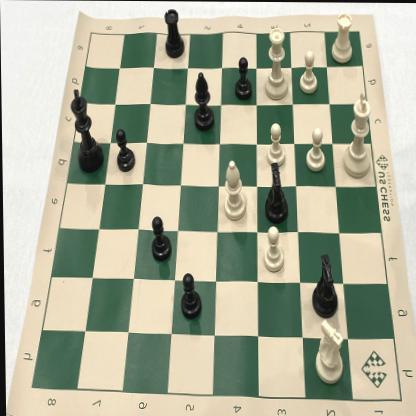black-bishop: (187, 66, 218, 136)
black-king: (67, 81, 106, 178)
black-knight: (307, 248, 341, 320), (259, 159, 292, 228)
black-pawn: (176, 265, 203, 323), (147, 212, 174, 267), (230, 51, 256, 105), (113, 124, 138, 176)
black-rook: (162, 5, 188, 65)
white-bishop: (221, 153, 250, 224)
white-king: (338, 88, 377, 180)
white-knight: (312, 315, 347, 384)
white-pawn: (259, 221, 290, 278), (301, 121, 328, 175), (294, 47, 320, 97), (263, 119, 287, 170)
white-queen: (260, 23, 290, 103)
white-rook: (328, 9, 357, 67)
